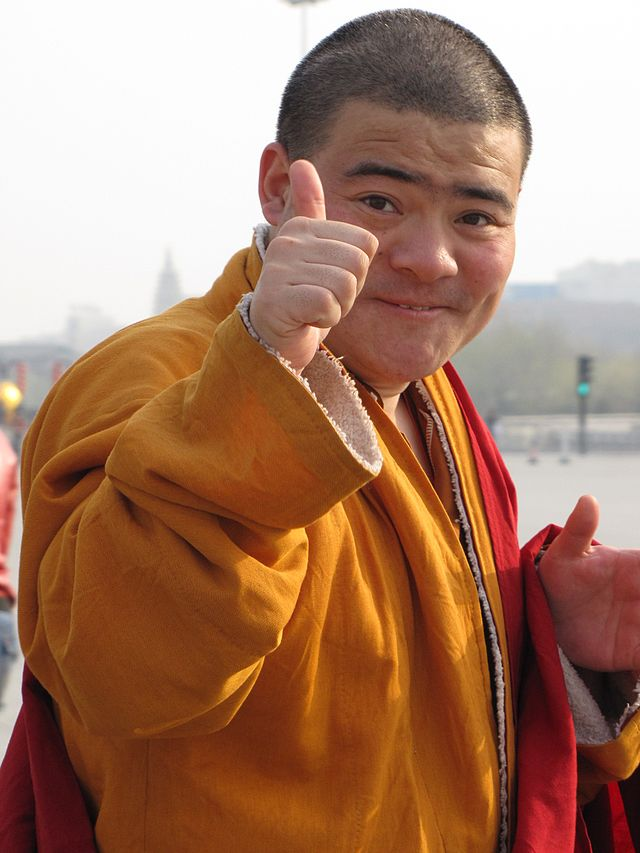thumbsUp: (244, 154, 380, 383)
